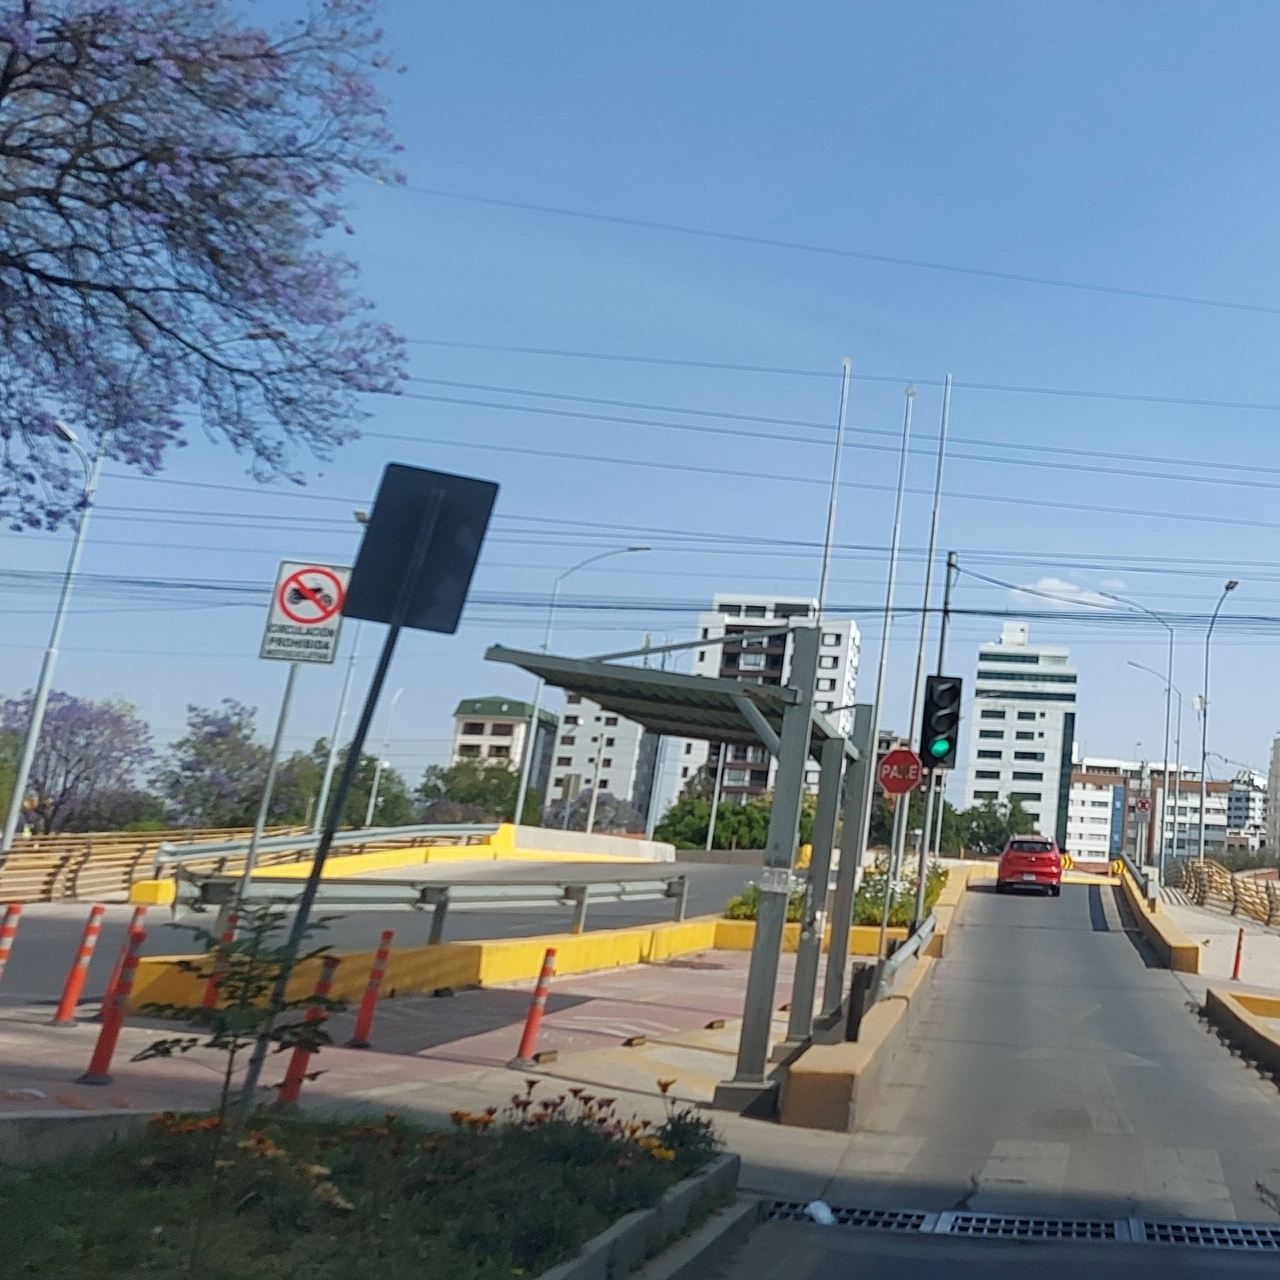pare: (878, 748, 922, 797)
